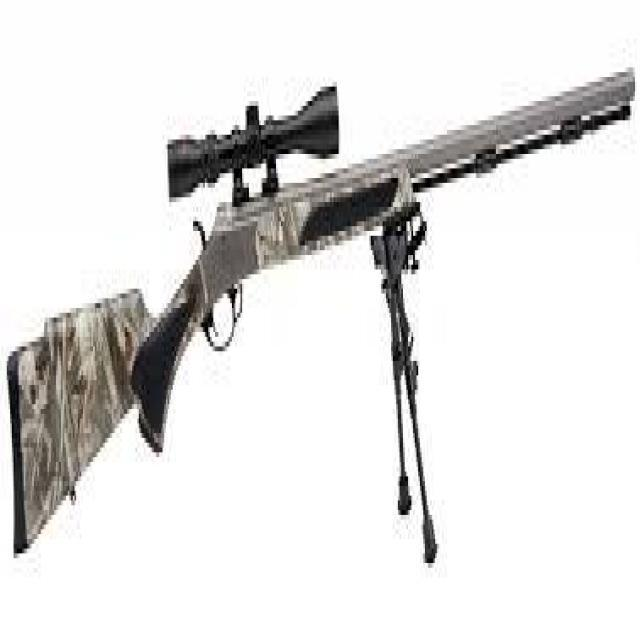weapon: (5, 58, 637, 568)
